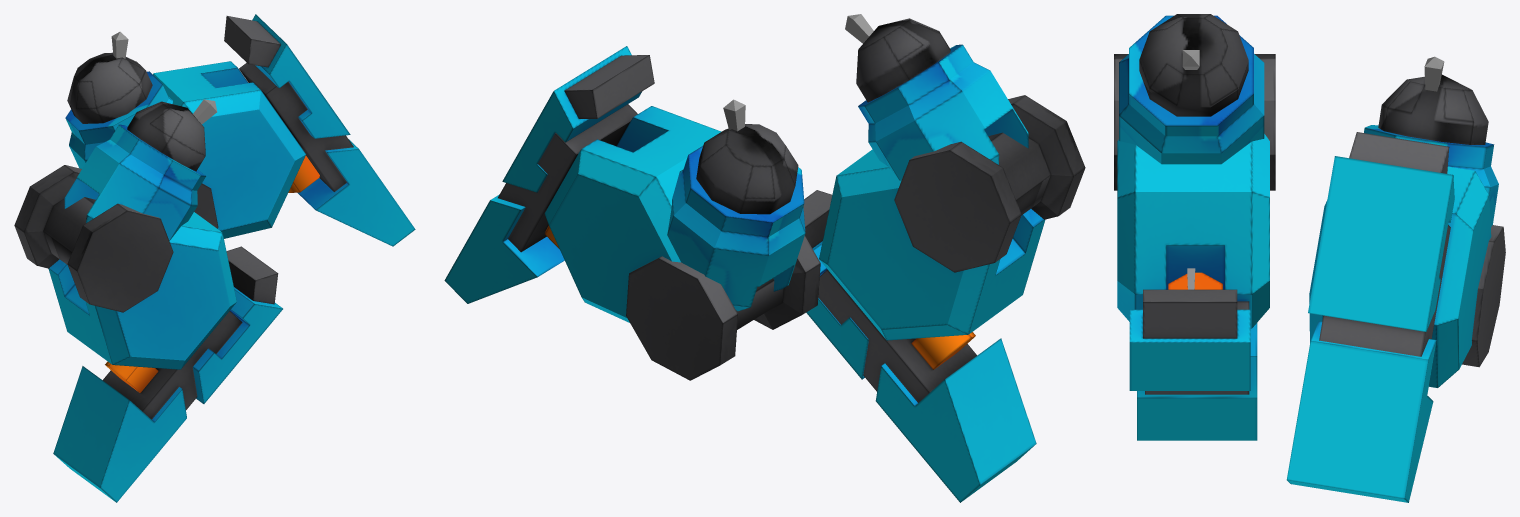
Rendered from Bottom_Running23.obj.
3 renders of one model, left to right at view 1: azimuth 30°, elevation 25°; view 2: azimuth 150°, elevation 25°; view 3: azimuth 270°, elevation 25°, orthographic. The views are drawn at different scales.
Visible parts, largest first — view 1: Object013, Object014, Object010, Object011, Object012, Object009; view 2: Object013, Object010, Object014, Object011, Object009, Object012; view 3: Object011, Object013, Object014, Object012, Object010, Object009, Bone006.
Boxes of the visible parts, x1=… form: Object013: x1=14, y1=165, x2=236, y2=369; Object014: x1=53, y1=246, x2=282, y2=502; Object010: x1=153, y1=61, x2=305, y2=238; Object011: x1=224, y1=14, x2=415, y2=246; Object012: x1=64, y1=101, x2=205, y2=240; Object009: x1=65, y1=52, x2=172, y2=168; Object013: x1=819, y1=95, x2=1085, y2=340; Object010: x1=544, y1=106, x2=820, y2=380; Object014: x1=803, y1=190, x2=1036, y2=502; Object011: x1=444, y1=46, x2=654, y2=303; Object009: x1=667, y1=124, x2=805, y2=311; Object012: x1=856, y1=18, x2=1028, y2=180; Object011: x1=1286, y1=132, x2=1454, y2=502; Object013: x1=1114, y1=54, x2=1275, y2=328; Object014: x1=1129, y1=272, x2=1257, y2=440; Object012: x1=1119, y1=14, x2=1264, y2=164; Object010: x1=1309, y1=166, x2=1505, y2=387; Object009: x1=1364, y1=74, x2=1498, y2=227; Bone006: x1=1424, y1=56, x2=1444, y2=91.
Size of the model in its own units: 146 by 121 by 91.67.
